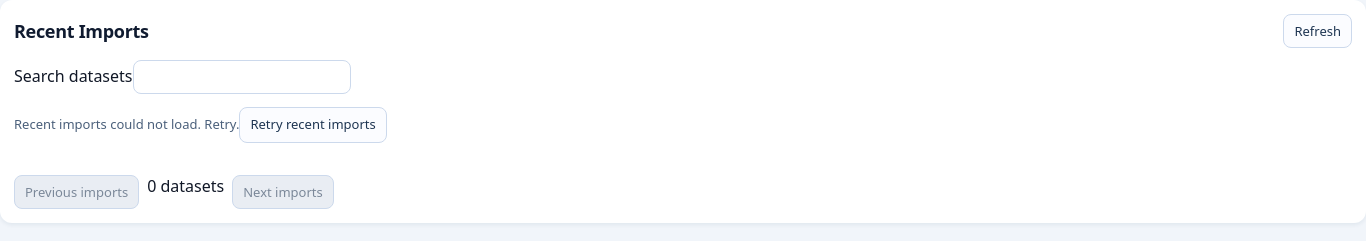
handles invalid responses and failed requests without hiding the import workspace
This screenshot has width=1366, height=241.
Expected: the message "Recent imports could not load. Retry. Retry recent imports" is shown, [14,107,387,142]
Click the button "Retry recent imports" at (313, 125), box [239,107,387,142]
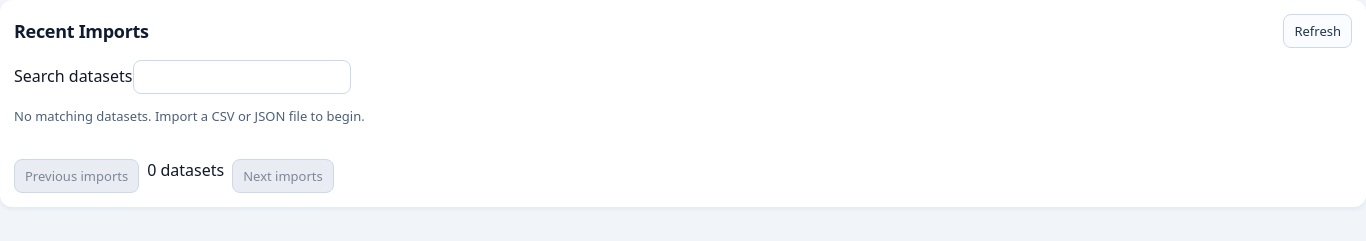
Now the text "No matching datasets. Import a CSV or JSON file to begin." is shown, box [14,107,365,125]
